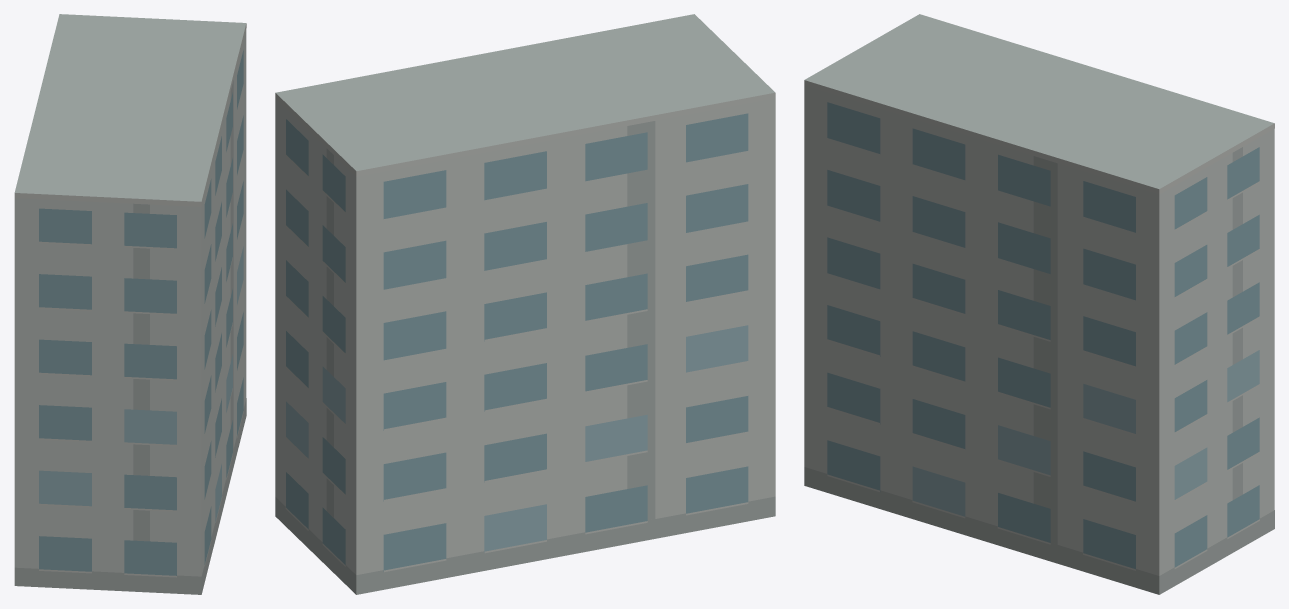
The model's file is survey-upis-32829291.glb.
The picture shows the model from 3 angles, left to right: view 1: azimuth 30°, elevation 25°; view 2: azimuth 150°, elevation 25°; view 3: azimuth 270°, elevation 25°; orthographic projection. The views are drawn at different scales.
Visible parts, largest first — view 1: survey-upis-32829291.tmp; view 2: survey-upis-32829291.tmp; view 3: survey-upis-32829291.tmp.
Boxes of the visible parts, x1,y1,x2,y2 form: survey-upis-32829291.tmp: (14,14,246,594); survey-upis-32829291.tmp: (275,14,775,594); survey-upis-32829291.tmp: (804,14,1274,594).
Size of the model in its own units: 16.96 by 18.3 by 19.24.
